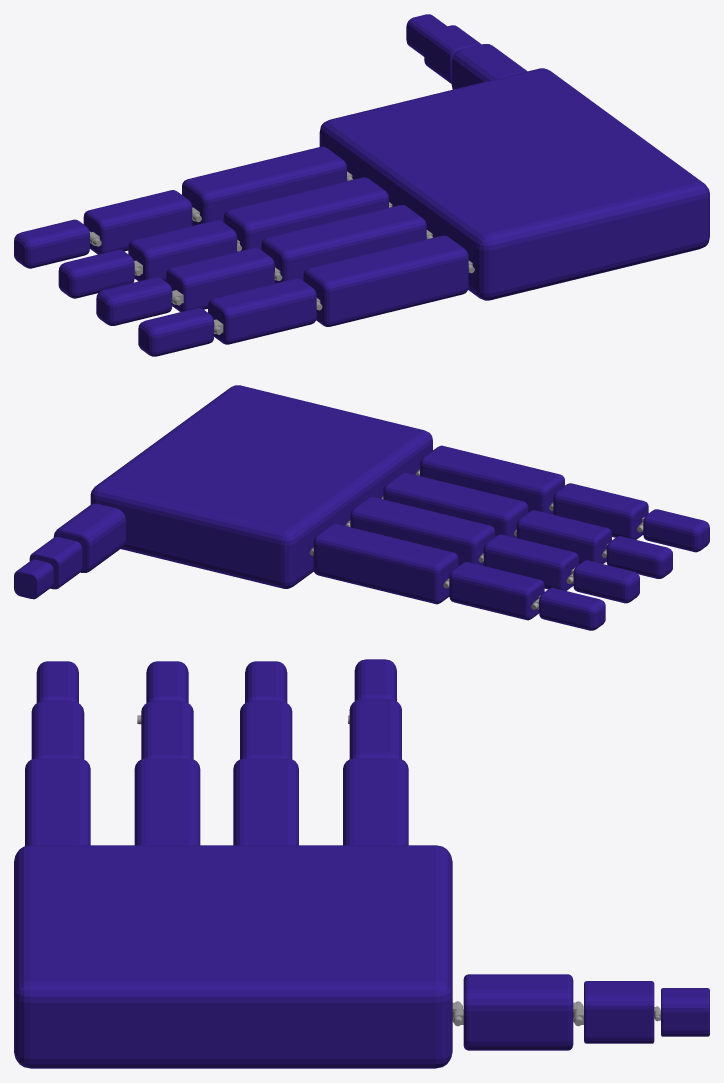
File: Dev_Hand_Neo.glb
3 views of the same model, one above another, from view 1: azimuth 30°, elevation 25°; view 2: azimuth 150°, elevation 25°; view 3: azimuth 270°, elevation 25° (orthographic). The views are drawn at different scales.
Parts seen in each view (by area): view 1: Hand; view 2: Hand; view 3: Hand.
Part boxes in pixels (left/top/right/bottom): Hand: left=14, top=14, right=709, bottom=356; Hand: left=14, top=385, right=709, bottom=630; Hand: left=14, top=659, right=709, bottom=1068.
Bounding box in the file's own units: 7.69 × 0.864 × 6.35.
